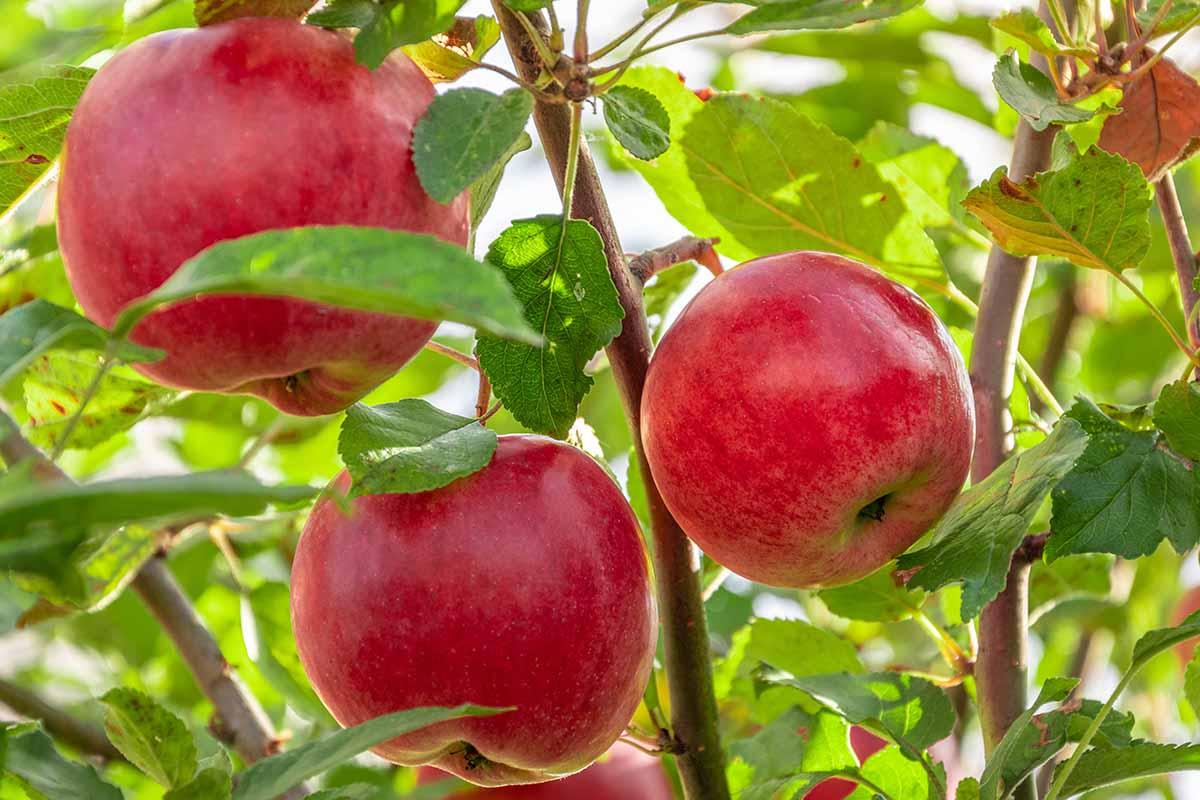apple: (45, 11, 481, 426), (285, 427, 672, 792), (635, 245, 969, 590)
